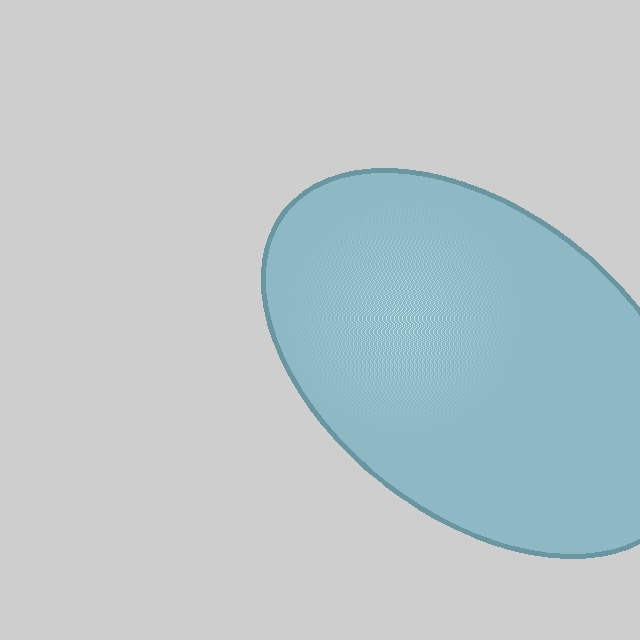lens: (263, 171, 640, 555)
